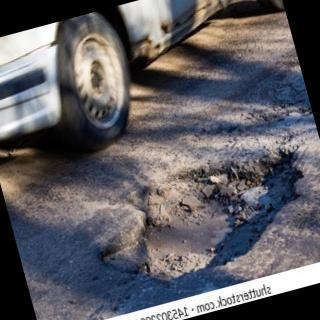pothole: (101, 148, 305, 281)
